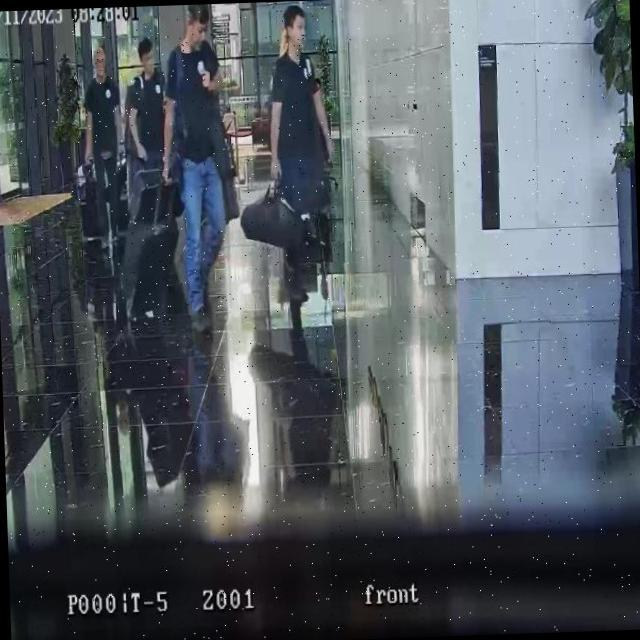person: (157, 3, 239, 324), (263, 2, 339, 314), (264, 3, 335, 215), (120, 36, 172, 225), (79, 44, 127, 242)
